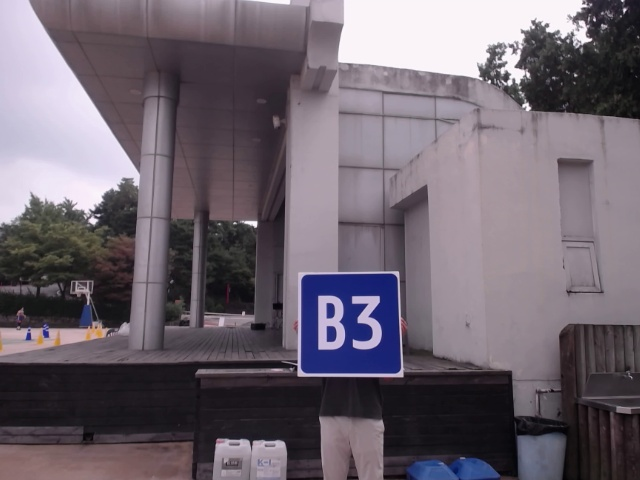delivery_b3: (298, 275, 400, 374)
